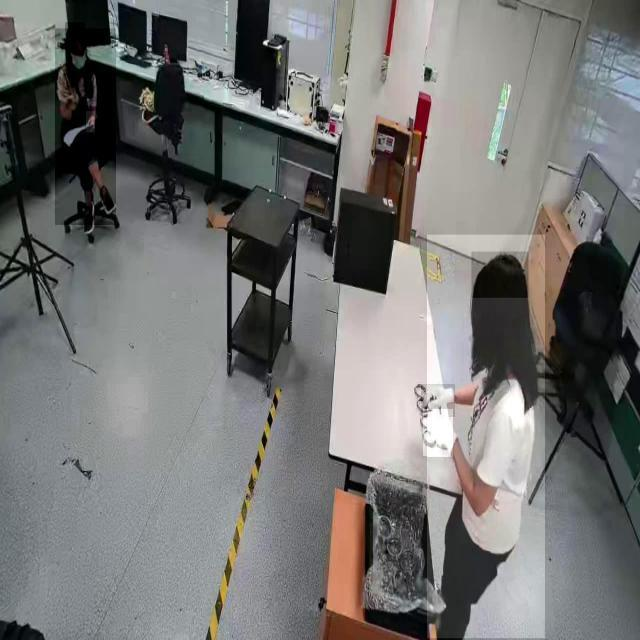boots: (80, 192, 98, 244), (96, 181, 118, 220)
gloves: (423, 409, 453, 457), (421, 384, 455, 417)
